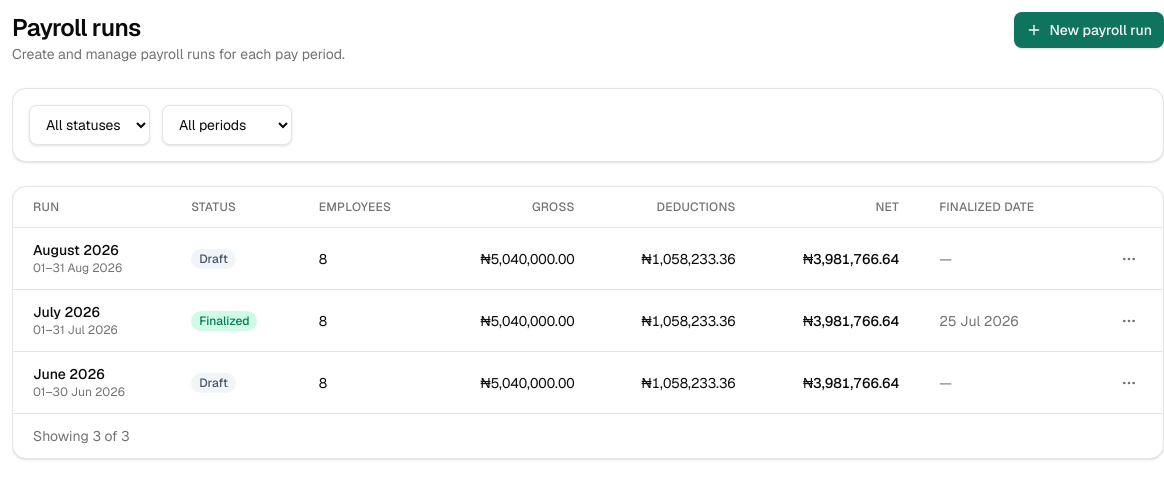
Scenario: payroll runs list › filters by period and clears filters
Select "August 2026" in the dropdown named "Filter runs by period" at (227, 125), box [162, 105, 292, 145]
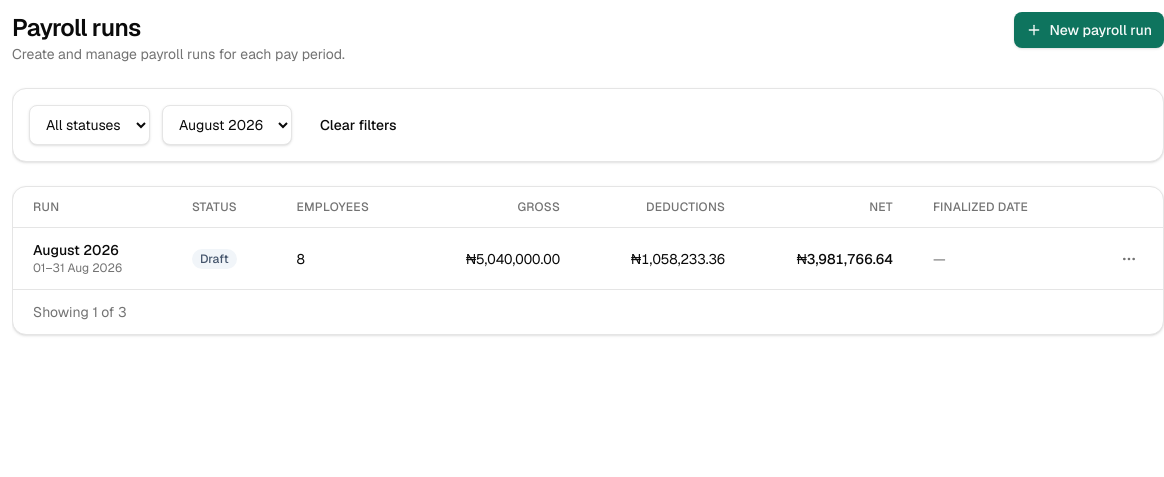
Check: the text "August 2026" is shown, box [33, 240, 122, 260]
Check: the button "July 2026" is gone
Click the button "Clear filters".
click(358, 125)  # box [304, 107, 412, 143]
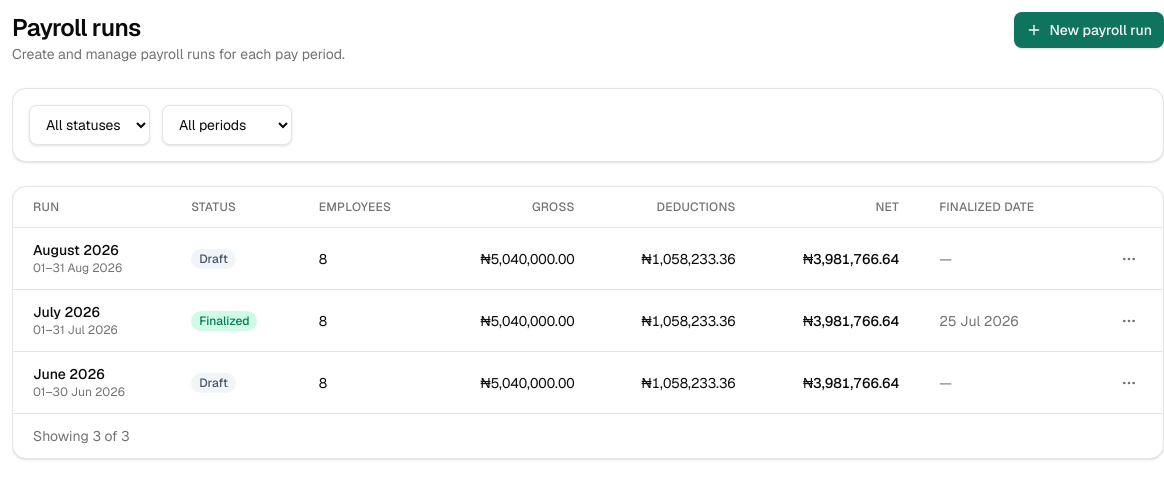
Check: the text "July 2026" is shown, box [33, 303, 100, 321]
